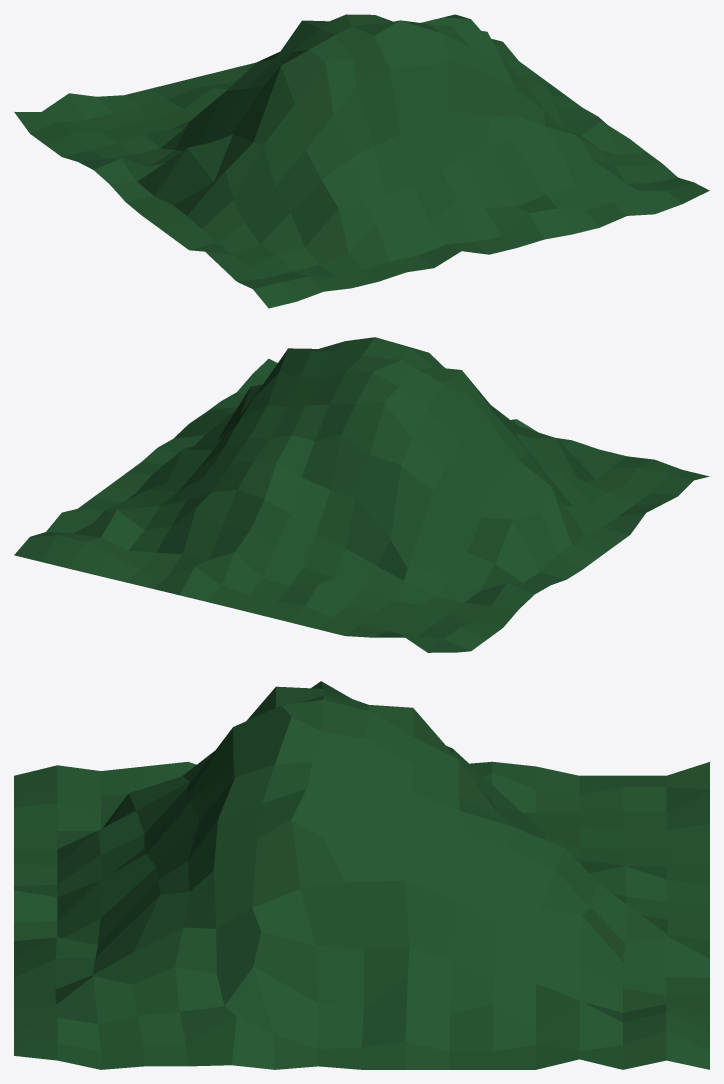
File: mountain1.fbx
The picture shows the model from 3 angles, top to bottom: view 1: azimuth 30°, elevation 25°; view 2: azimuth 150°, elevation 25°; view 3: azimuth 270°, elevation 25°; orthographic projection. The views are drawn at different scales.
Parts seen in each view (by area): view 1: Plane; view 2: Plane; view 3: Plane.
Part boxes in pixels (x1,y1,x2,y2): Plane: (14,14,709,308); Plane: (14,337,709,652); Plane: (14,681,709,1069).
Bounding box in the file's own units: 20000 × 6796 × 20000.
